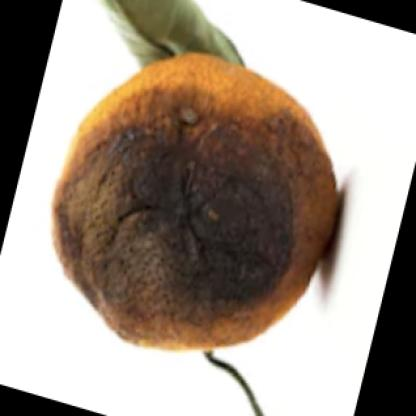rotten: (52, 54, 339, 349)
